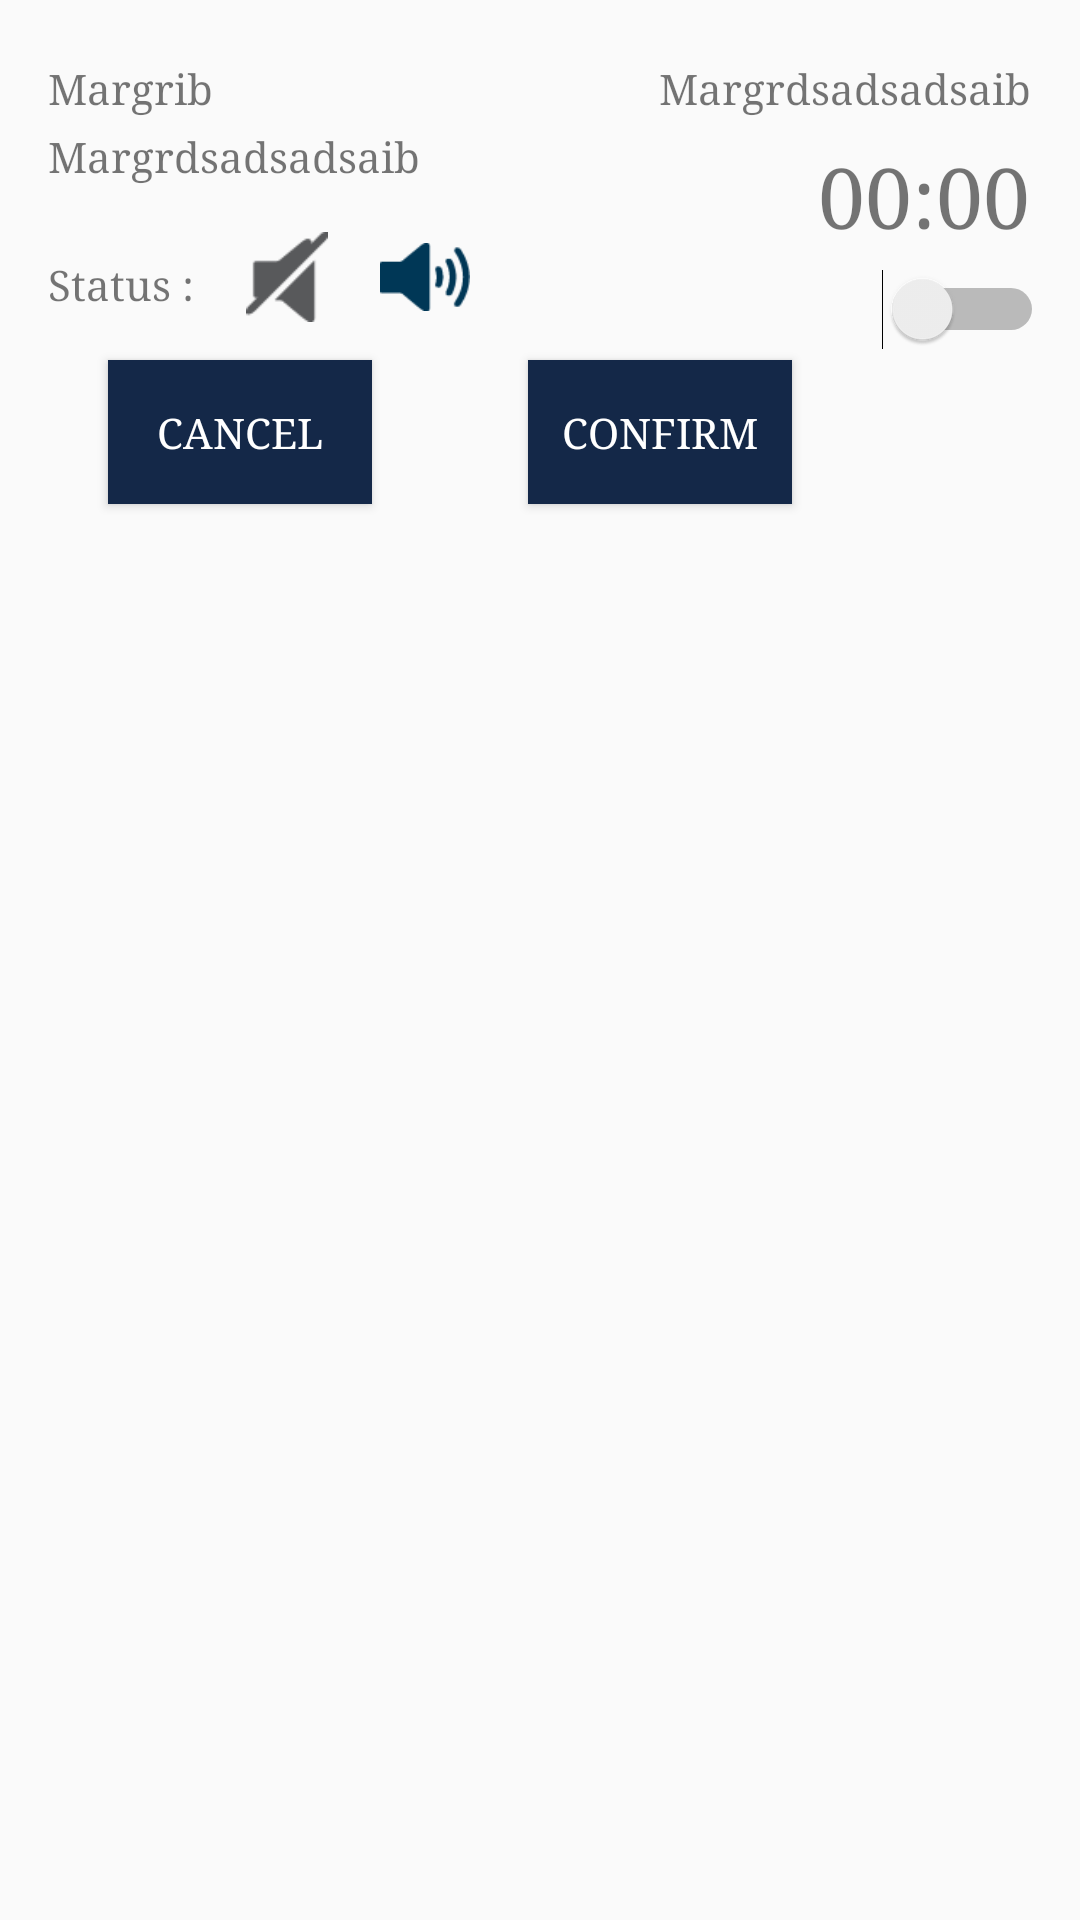

Where to tap for icons on this 1080*1920 app screen, as [x,y]:
alarm with notification: [425,277]
notification only off: [287,277]
